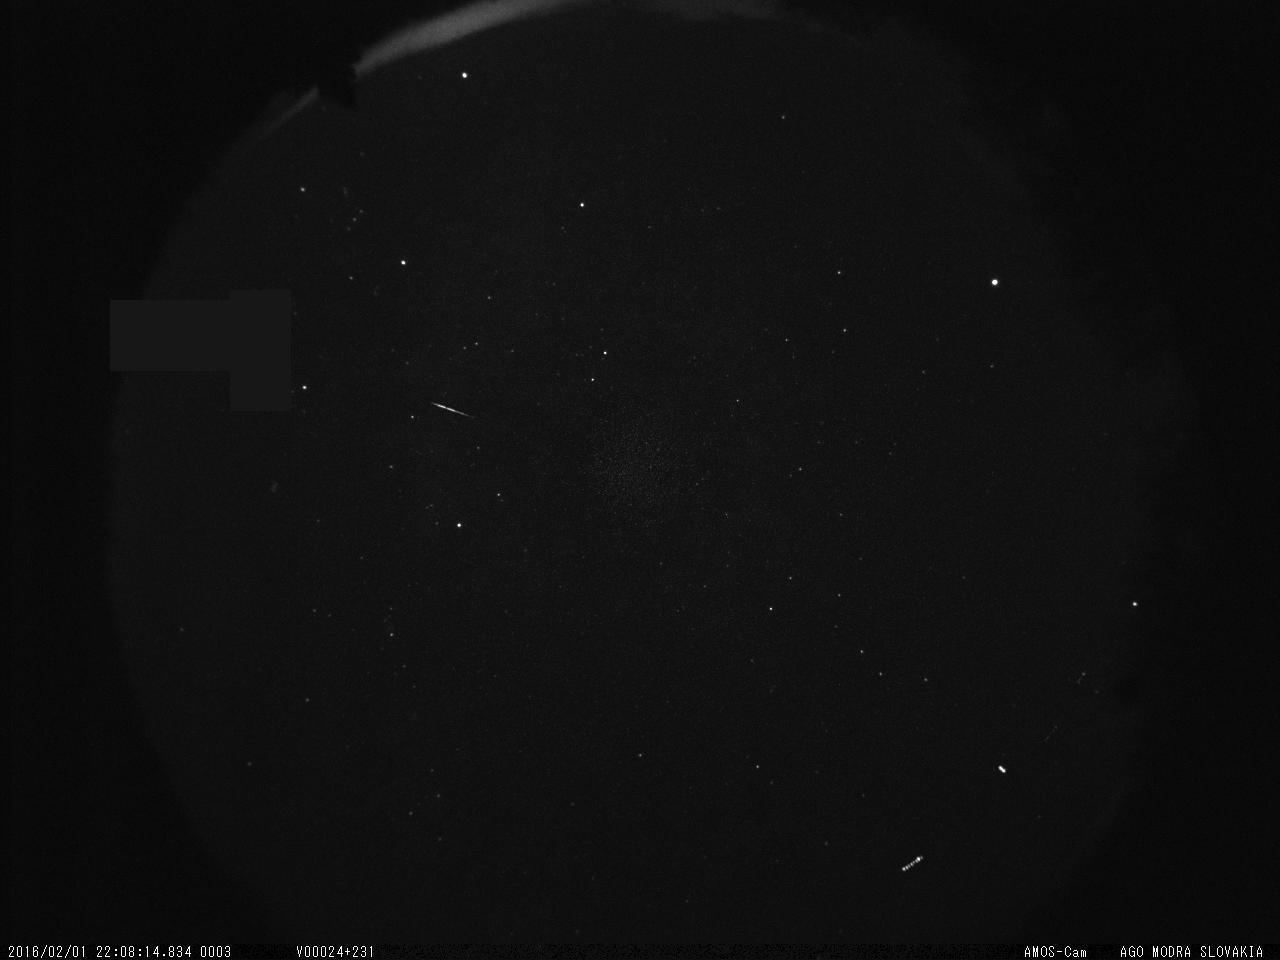meteor: (414, 387, 496, 430)
